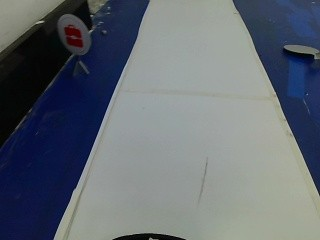company: (56, 12, 91, 56)
